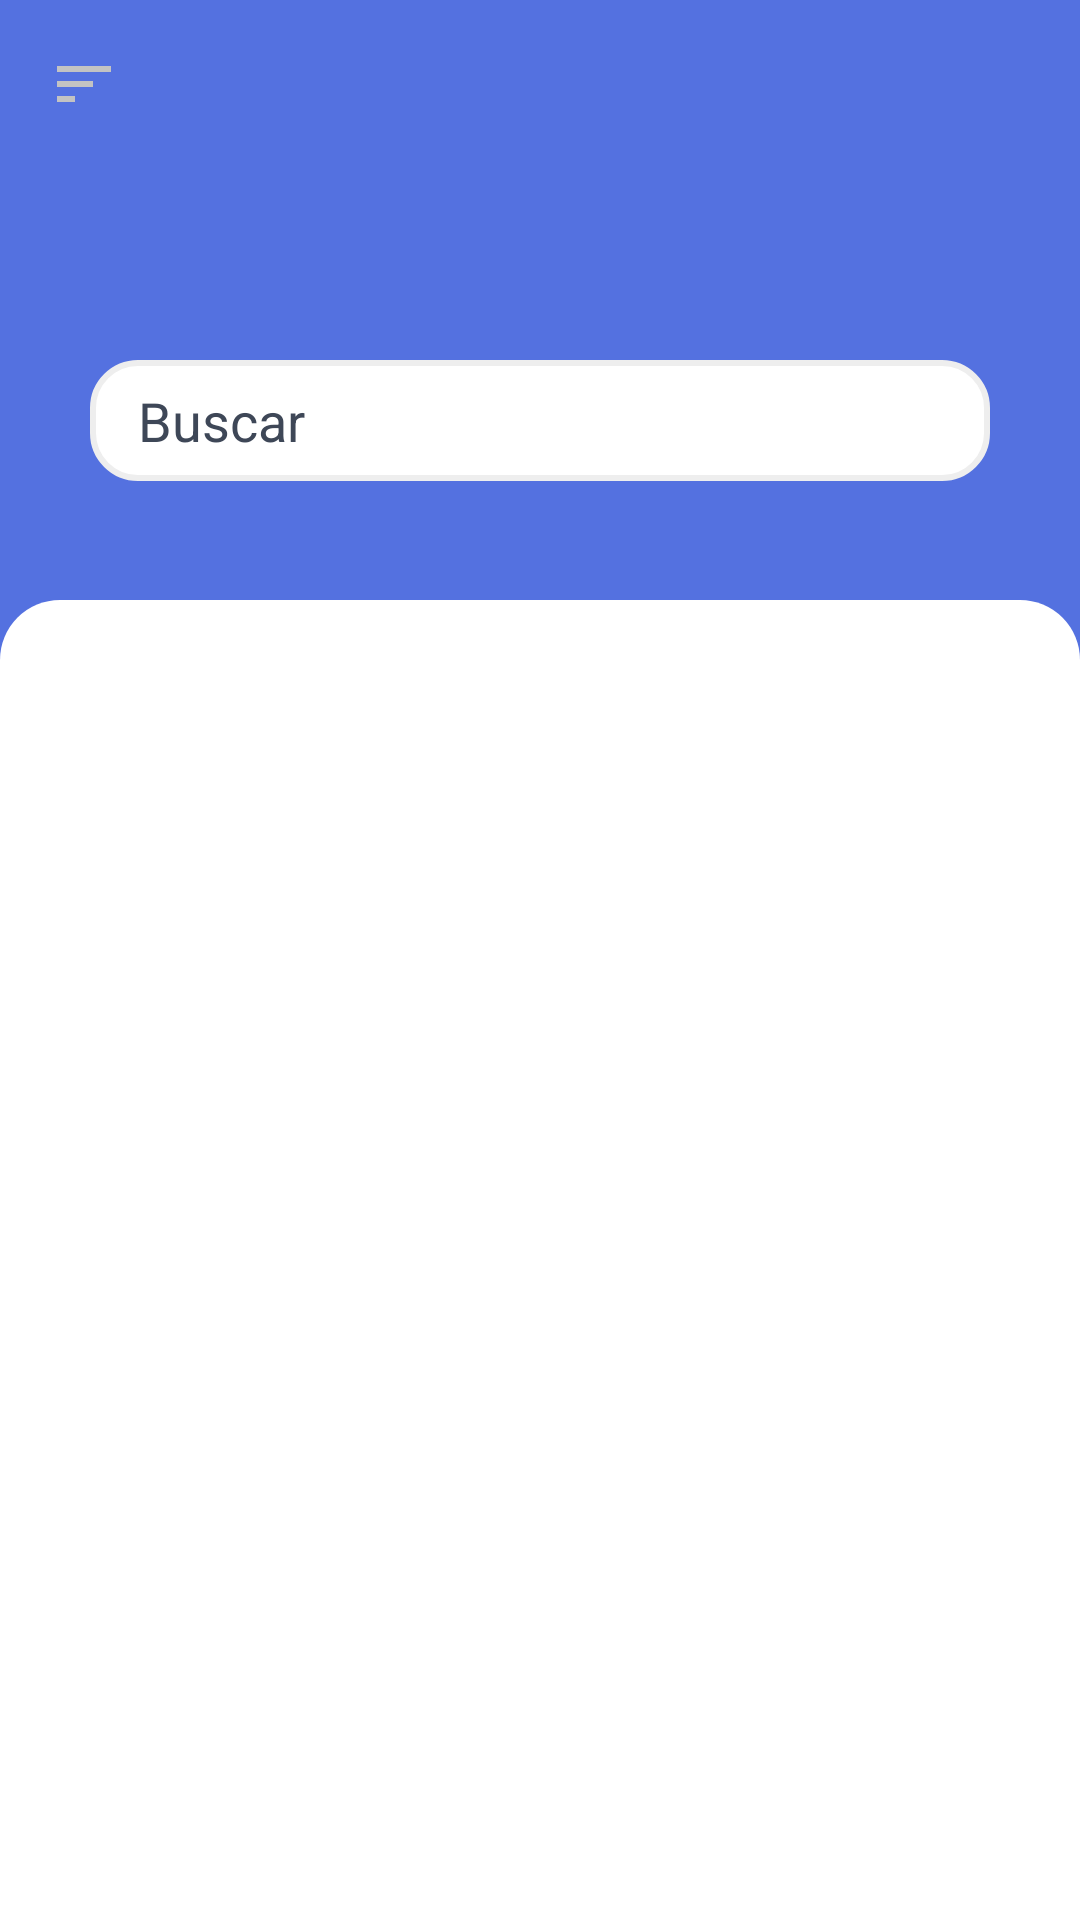

Named icons in this screenshot (1080x1920) and their bounding boxes, (x1, y1, x2, y2):
sort: (57, 66, 111, 102)
